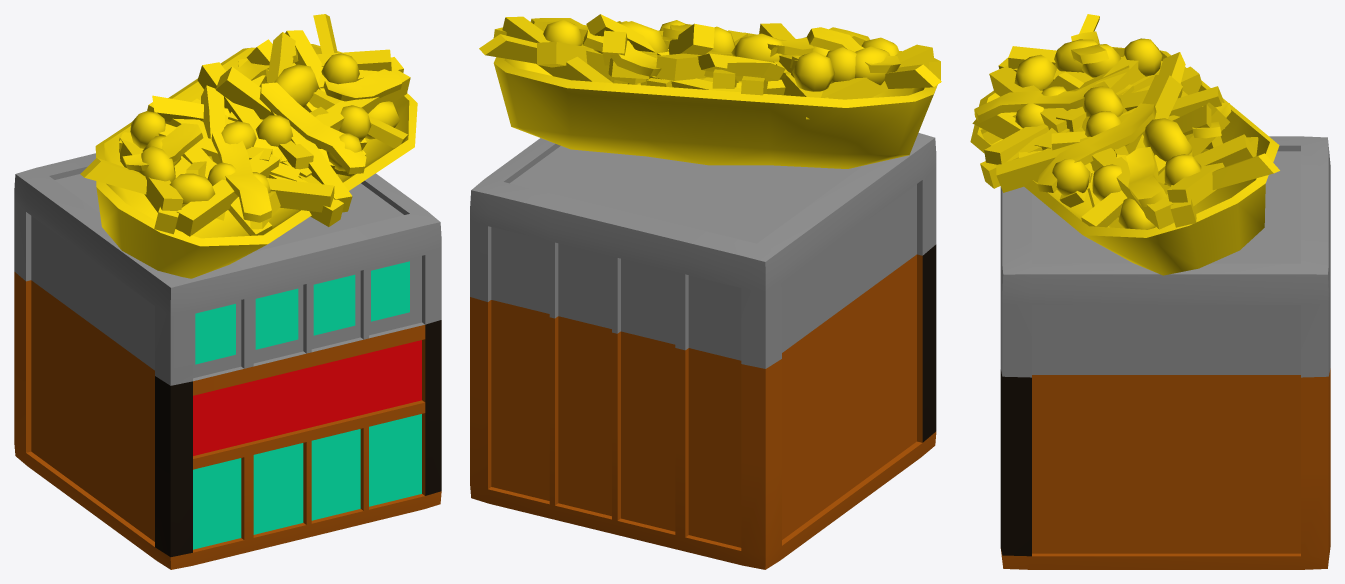
Rendered from MOD_RestauPoutine.FBX.
3 renders of one model, left to right at view 1: azimuth 30°, elevation 25°; view 2: azimuth 150°, elevation 25°; view 3: azimuth 270°, elevation 25°, orthographic. The views are drawn at different scales.
Visible parts, largest first — view 1: Batiment_FF, Poutine, Bacon, Fritte027, Fritte038, Fritte005, Fritte022, Fritte041, Fritte023, Fritte020, Fritte034, Sphere001 (+21 smaller); view 2: Batiment_FF, Poutine, Bacon, Fritte023, Fritte016, Sphere009, Fritte034, Fritte015, Fritte005, Fritte022, Fritte003, Sphere004 (+9 smaller); view 3: Batiment_FF, Poutine, Bacon, Fritte041, Fritte020, Sphere001, Fritte016, Fritte015, Fritte005, Fritte027, Fritte003, Fritte038 (+25 smaller).
Part boxes in pixels (box(x1,y1,x2,y2)): Batiment_FF: box(14, 153, 441, 569); Poutine: box(95, 44, 417, 278); Bacon: box(122, 47, 401, 222); Fritte027: box(175, 150, 279, 236); Fritte038: box(266, 178, 334, 212); Fritte005: box(215, 66, 321, 148); Fritte022: box(80, 158, 225, 220); Fritte041: box(270, 110, 352, 212); Fritte023: box(119, 137, 183, 212); Fritte020: box(315, 68, 410, 130); Fritte034: box(197, 62, 287, 163); Sphere001: box(274, 64, 318, 107); Batiment_FF: box(470, 132, 936, 569); Poutine: box(493, 57, 937, 168); Bacon: box(530, 18, 900, 76); Fritte023: box(821, 44, 934, 99); Fritte016: box(502, 16, 612, 82); Sphere009: box(792, 51, 834, 91); Fritte034: box(655, 51, 732, 80); Fritte015: box(479, 34, 536, 63); Fritte005: box(668, 23, 714, 55); Fritte022: box(884, 64, 941, 88); Fritte003: box(537, 42, 592, 67); Sphere004: box(731, 33, 784, 62); Batiment_FF: box(1000, 136, 1330, 569); Poutine: box(970, 47, 1279, 275); Bacon: box(974, 31, 1231, 207); Fritte041: box(996, 130, 1144, 192); Fritte020: box(1091, 148, 1174, 229); Sphere001: box(1143, 118, 1192, 161); Fritte016: box(1167, 137, 1258, 206); Fritte015: box(1212, 153, 1279, 190); Fritte005: box(1126, 75, 1182, 153); Fritte027: box(989, 65, 1074, 132); Fritte003: box(1118, 134, 1254, 217); Fritte038: box(984, 124, 1048, 164).
Bounding box in the file's own units: 41.19 × 45.49 × 34.05.
